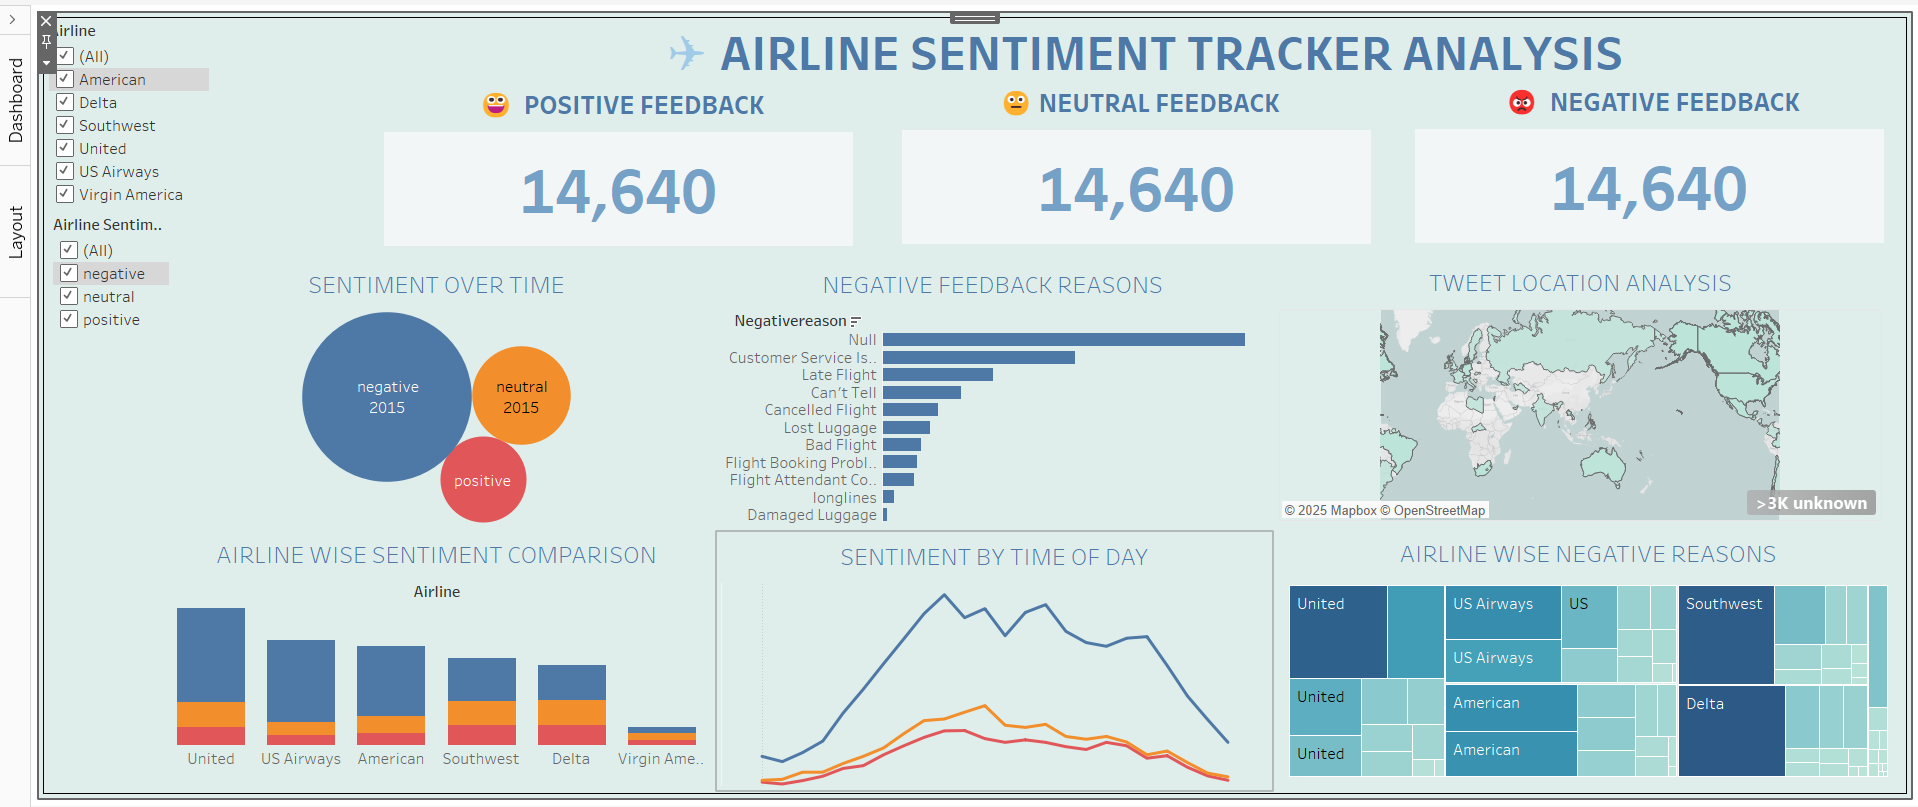

What the dashboard file says about the page in this screenshot:
{"tool":"tableau","page":{"name":"Dashboard 1","canvas":[1000,1000],"units":"permille","ordinal":0},"visuals":[{"type":"dashboard-object","param":"[com.tableau.addfilters].[0.0.0].[https://extensions.tableauusercontent.com/sand","box":[4.2,10,991.5,980]},{"type":"text","box":[178,12.5,822,88.6]},{"type":"filter","title":"SENTIMENT OVER TIME","param":"[federated.0kaad5217xuvd0164tvcb14i7tsn].[none:airline:nk]","box":[9.7,18.7,84.5,245.9]},{"type":"worksheet","title":"NEGATIVE FEEDBACK","mark":"Automatic","box":[730.8,88.6,252.9,213.5]},{"type":"worksheet","title":"NEUTRAL FEEDBACK","mark":"Automatic","box":[459.3,89.9,252.9,213.5]},{"type":"worksheet","title":"POSITIVE FEEDBACK","mark":"Automatic","box":[184.7,92.4,252.9,213.5]},{"type":"filter","title":"SENTIMENT OVER TIME","param":"[federated.0kaad5217xuvd0164tvcb14i7tsn].[none:airline_sentiment:nk]","box":[11.5,260.9,61.6,159.8]},{"type":"worksheet","title":"TWEET LOCATION ANALYSIS","mark":"Automatic","box":[659,315.9,323.5,333.3]},{"type":"worksheet","title":"SENTIMENT OVER TIME","mark":"Circle","box":[69.4,318.4,290.9,333.3]},{"type":"worksheet","title":"NEGATIVE FEEDBACK REASONS","mark":"Automatic","rows":["negativereason"],"cols":["tweet_id"],"box":[363.9,318.4,290.9,333.3]},{"type":"worksheet","title":"AIRLINE WISE NEGATIVE REASONS","mark":"Automatic","box":[661.4,654.2,326.5,320.9]},{"type":"worksheet","title":"AIRLINE WISE SENTIMENT COMPARISON","mark":"Automatic","rows":["tweet_id"],"cols":["airline"],"box":[69.4,655.4,290.9,323.4]},{"type":"worksheet","title":"SENTIMENT BY TIME OF DAY","mark":"Automatic","rows":["tweet_id"],"cols":["Calculation_543809689492471808"],"box":[363.3,657.9,293.9,322.1]}]}

Visuals, with their boxes on the dashboard's canvas, which has no fixed pixel size, in thousandths of its width and height (x1, y1, x2, y2). These are canvas units, not pixel positions in the 1918x807 screenshot, which may show the page scaled, cropped or inside an application window:
dashboard-object: x1=4, y1=10, x2=996, y2=990
text: x1=178, y1=12, x2=1000, y2=101
"SENTIMENT OVER TIME" filter: x1=10, y1=19, x2=94, y2=265
"NEGATIVE FEEDBACK" worksheet: x1=731, y1=89, x2=984, y2=302
"NEUTRAL FEEDBACK" worksheet: x1=459, y1=90, x2=712, y2=303
"POSITIVE FEEDBACK" worksheet: x1=185, y1=92, x2=438, y2=306
"SENTIMENT OVER TIME" filter: x1=12, y1=261, x2=73, y2=421
"TWEET LOCATION ANALYSIS" worksheet: x1=659, y1=316, x2=982, y2=649
"SENTIMENT OVER TIME" worksheet (Circle marks): x1=69, y1=318, x2=360, y2=652
"NEGATIVE FEEDBACK REASONS" worksheet: x1=364, y1=318, x2=655, y2=652
"AIRLINE WISE NEGATIVE REASONS" worksheet: x1=661, y1=654, x2=988, y2=975
"AIRLINE WISE SENTIMENT COMPARISON" worksheet: x1=69, y1=655, x2=360, y2=979
"SENTIMENT BY TIME OF DAY" worksheet: x1=363, y1=658, x2=657, y2=980
